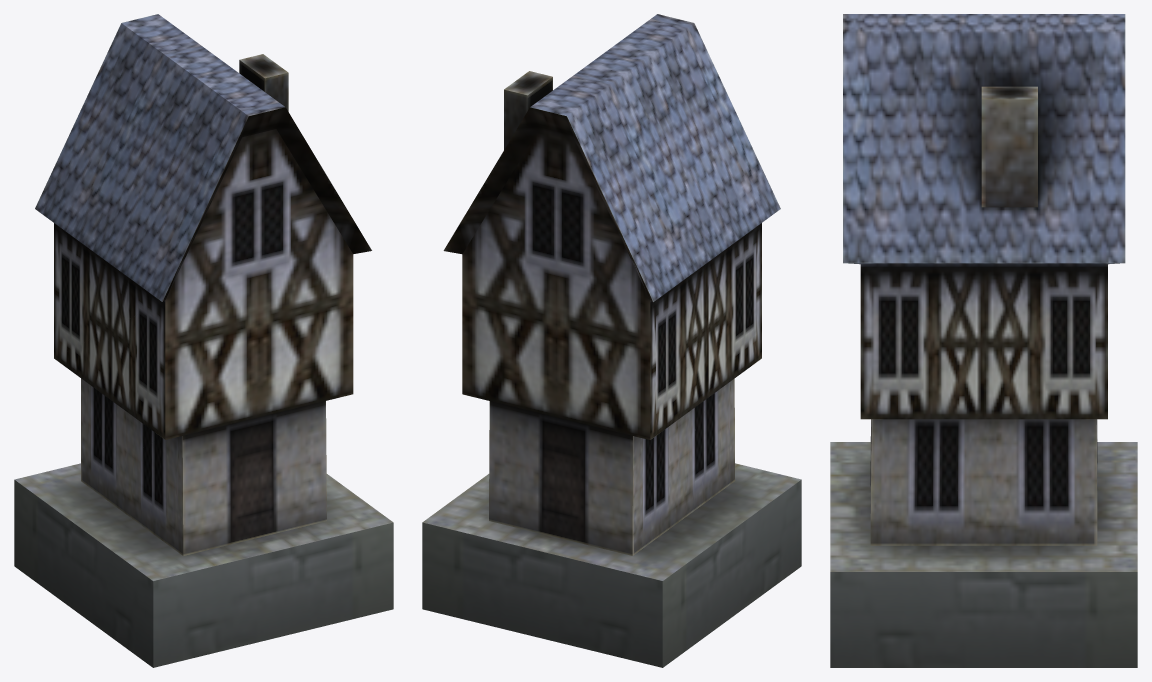
Rendered from med_tile_sml_blue_hse.obj.
3 views of the same model, side by side, from view 1: azimuth 30°, elevation 25°; view 2: azimuth 150°, elevation 25°; view 3: azimuth 270°, elevation 25° (orthographic). The views are drawn at different scales.
Parts seen in each view (by area): view 1: boundary_sml_blue_house; view 2: boundary_sml_blue_house; view 3: boundary_sml_blue_house.
Boxes of the visible parts, x1,y1,x2,y2 form: boundary_sml_blue_house: [14, 14, 393, 667]; boundary_sml_blue_house: [422, 14, 801, 667]; boundary_sml_blue_house: [830, 14, 1137, 667].
Size of the model in its own units: 1 by 2.08 by 1.
Materials: 1 (1 with a texture image).
